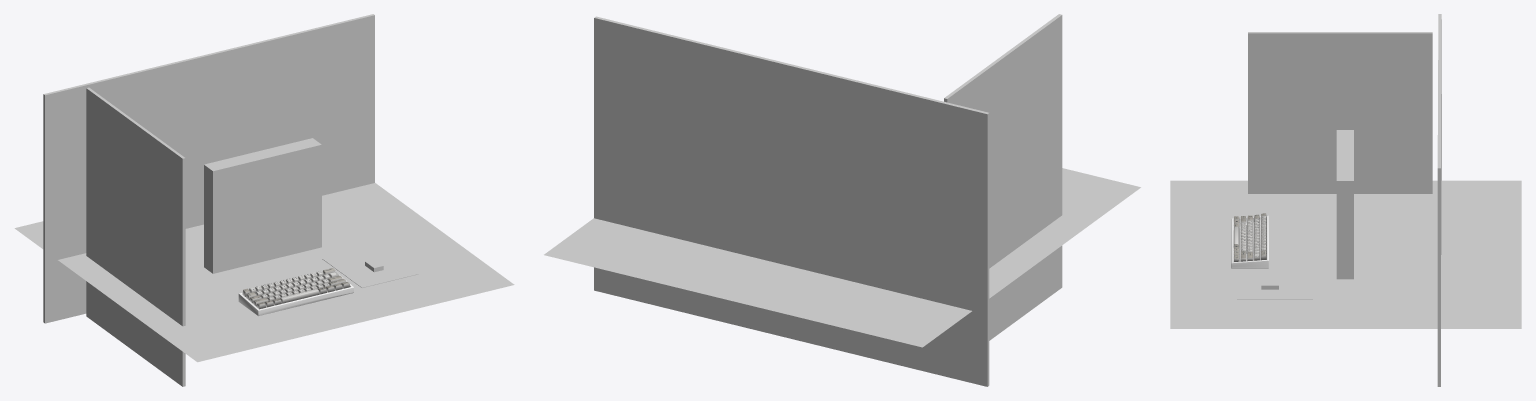
The model's file is desk_scene_4.glb.
The picture shows the model from 3 angles, left to right: view 1: azimuth 30°, elevation 25°; view 2: azimuth 150°, elevation 25°; view 3: azimuth 270°, elevation 25°; orthographic projection. The views are drawn at different scales.
Visible parts, largest first — view 1: Computer, Cube.016, Cube.004; view 2: Computer; view 3: Computer, Cube.016, Cube.004.
Part boxes in pixels (bbox=[...]): Computer: bbox=[14, 14, 514, 386]; Cube.016: bbox=[242, 268, 350, 309]; Cube.004: bbox=[238, 271, 353, 315]; Computer: bbox=[544, 14, 1140, 386]; Computer: bbox=[1170, 14, 1521, 386]; Cube.016: bbox=[1233, 213, 1266, 261]; Cube.004: bbox=[1231, 215, 1268, 268].
Size of the model in its own units: 7.74 by 5.12 by 7.45.
Materials: 2 (1 with a texture image).
